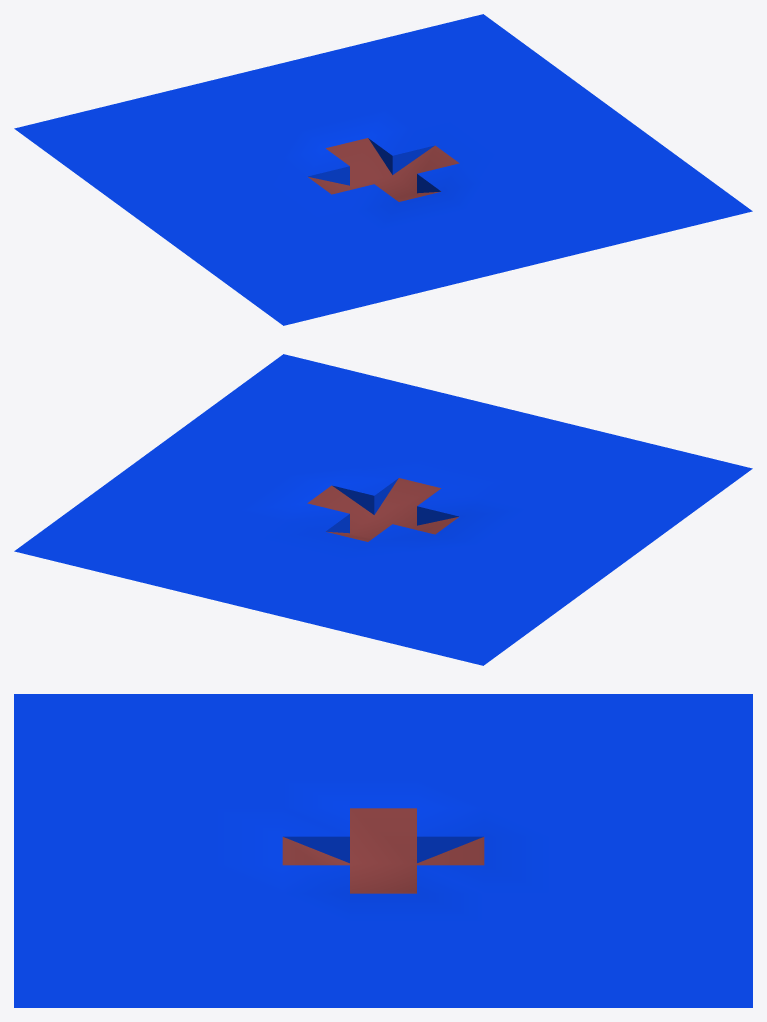
File: Progeny Main Floor.FBX
3 renders of one model, top to bottom at view 1: azimuth 30°, elevation 25°; view 2: azimuth 150°, elevation 25°; view 3: azimuth 270°, elevation 25°, orthographic. The views are drawn at different scales.
Parts seen in each view (by area): view 1: Plane007; view 2: Plane007; view 3: Plane007.
Boxes of the visible parts, x1,y1,x2,y2 form: Plane007: (14,14,752,325); Plane007: (14,354,752,665); Plane007: (14,694,752,1007).
Bounding box in the file's own units: 9.96 × 0.395 × 9.91.
